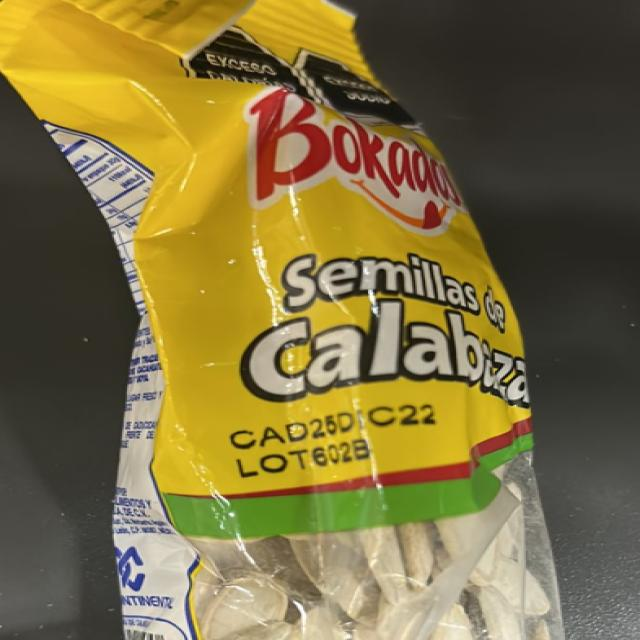semillasCalabaza: (95, 5, 514, 640)
